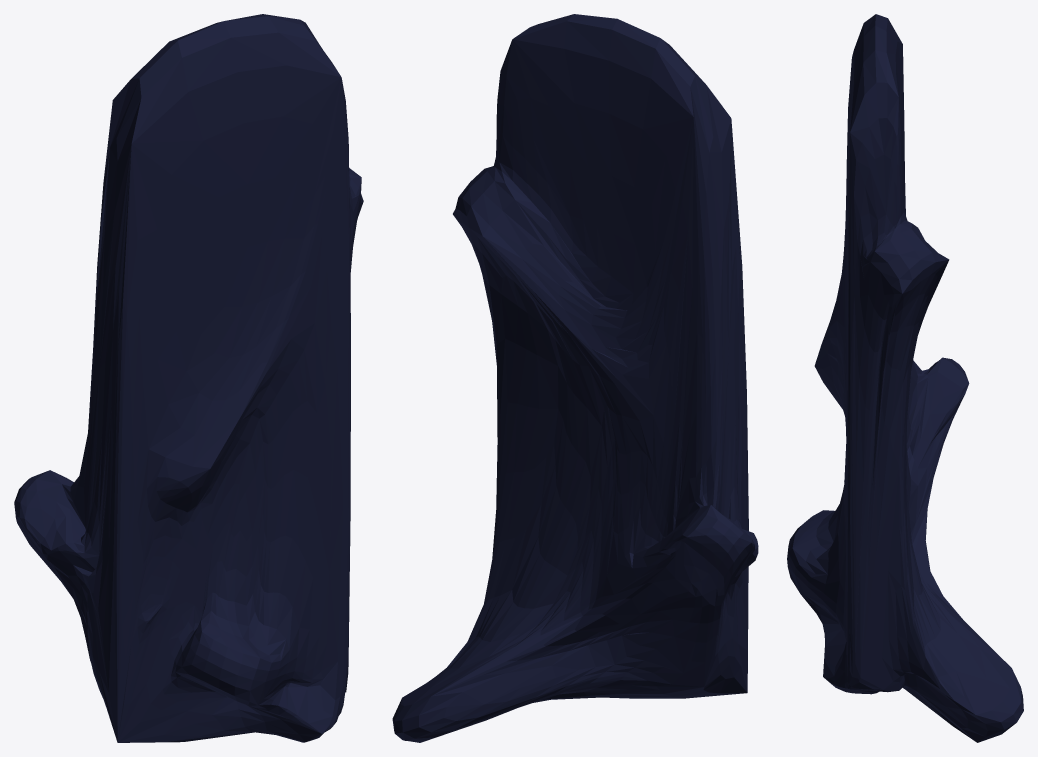
3 views of the same model, side by side, from view 1: azimuth 30°, elevation 25°; view 2: azimuth 150°, elevation 25°; view 3: azimuth 270°, elevation 25° (orthographic). The views are drawn at different scales.
Visible parts, largest first — view 1: 023_Cube.103; view 2: 023_Cube.103; view 3: 023_Cube.103.
Part boxes in pixels (x1=…): 023_Cube.103: x1=14, y1=14, x2=363, y2=742; 023_Cube.103: x1=392, y1=14, x2=758, y2=742; 023_Cube.103: x1=787, y1=14, x2=1023, y2=742.
Size of the model in its own units: 6.21 by 13.1 by 4.3.
